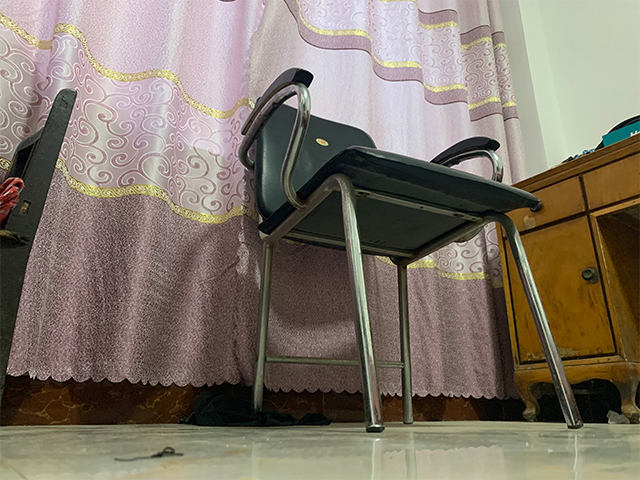cabinet: (495, 131, 640, 426)
curtain: (1, 1, 543, 400)
stool: (236, 66, 586, 435)
